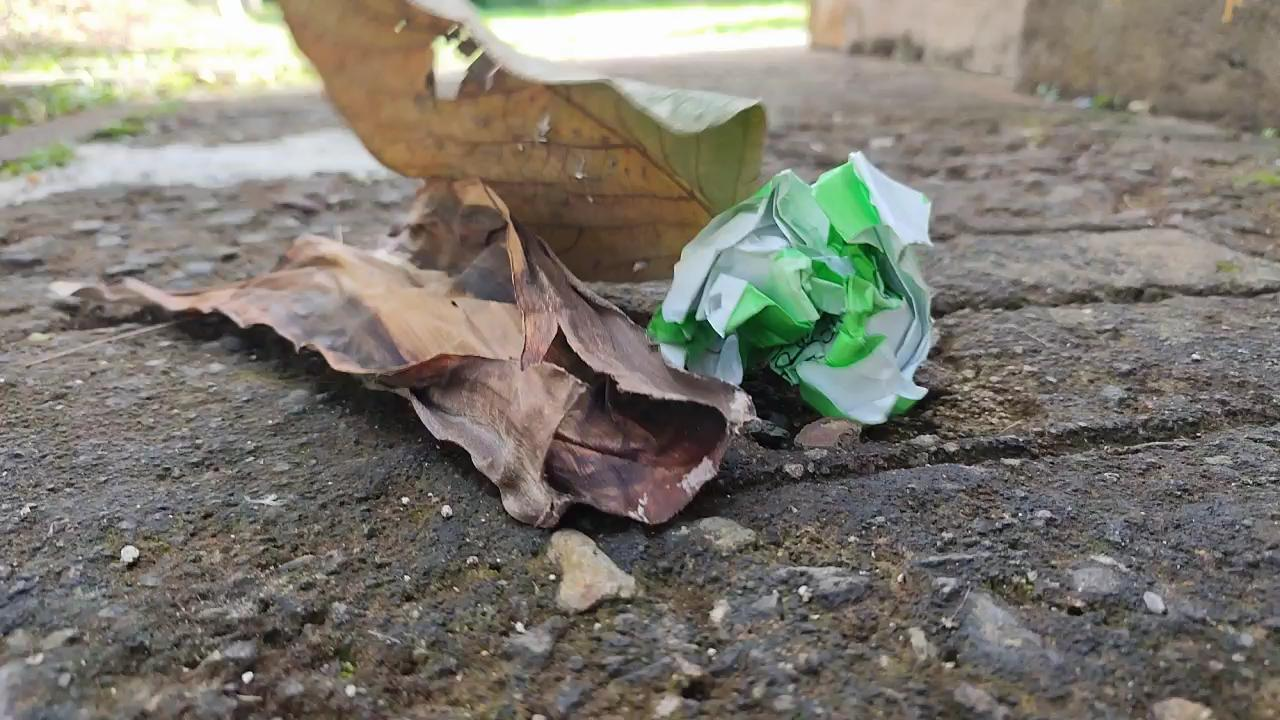Paper: (631, 141, 949, 440)
